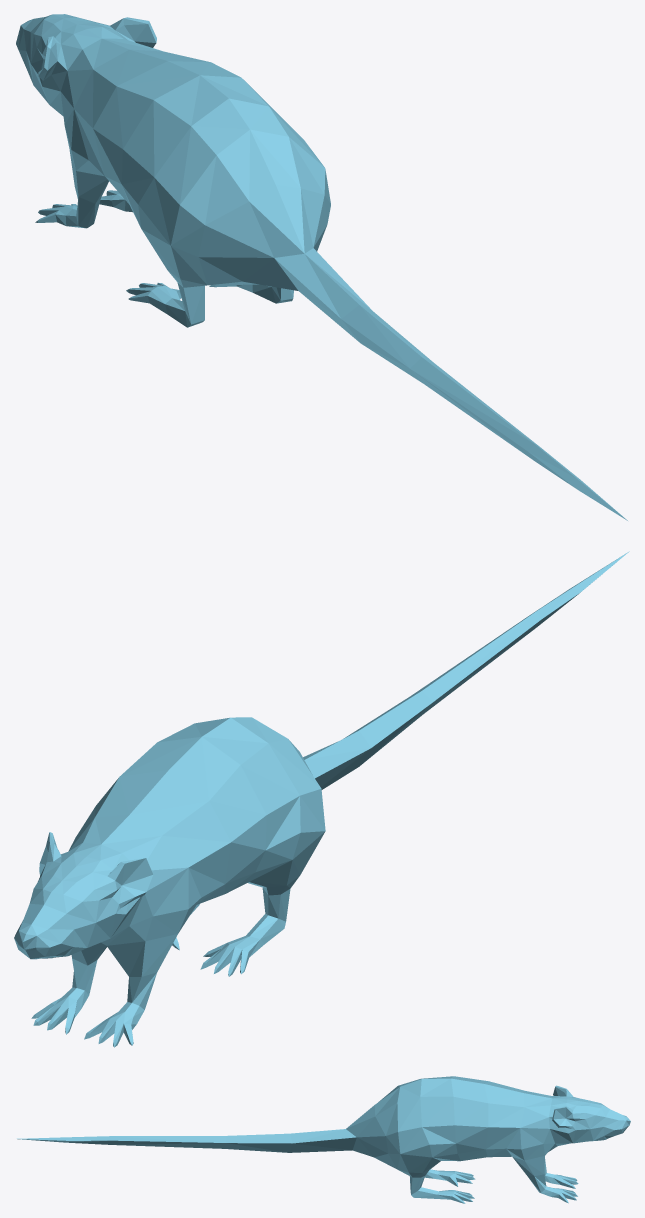
The model's file is tinker.obj.
3 views of the same model, one above another, from view 1: azimuth 30°, elevation 25°; view 2: azimuth 150°, elevation 25°; view 3: azimuth 270°, elevation 25° (orthographic). The views are drawn at different scales.
Visible parts, largest first — view 1: obj_0; view 2: obj_0; view 3: obj_0.
Part boxes in pixels (x1=…): obj_0: x1=16, y1=14, x2=627, y2=520; obj_0: x1=14, y1=551, x2=629, y2=1047; obj_0: x1=17, y1=1076, x2=630, y2=1203.
Size of the model in its own units: 22.48 by 28.72 by 144.
